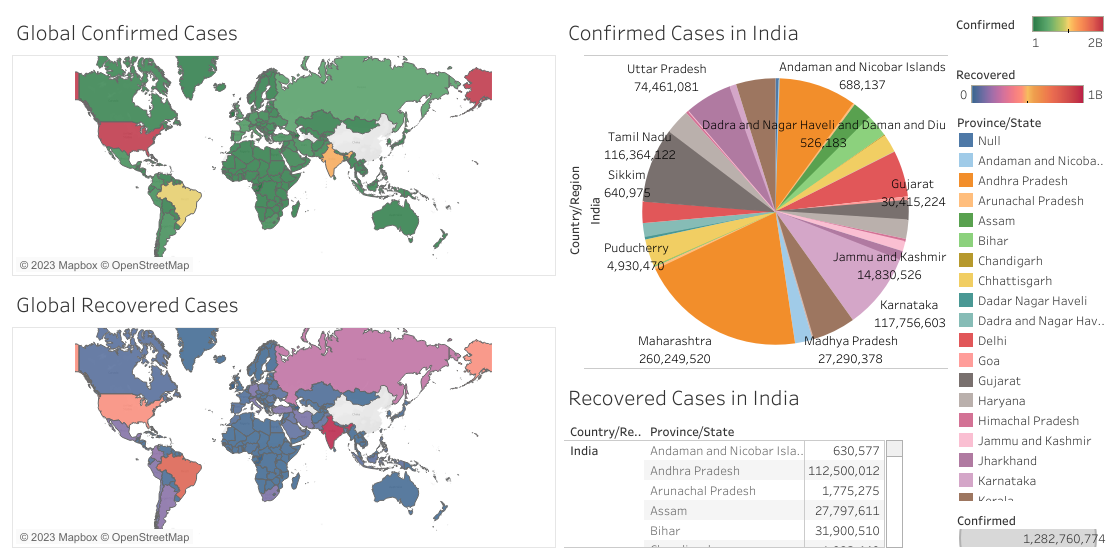

Layout of this report page (visuals, bound fields, positions):
{"tool":"tableau","page":{"name":"Dashboard 1","canvas":[1120,560],"ordinal":0},"visuals":[{"type":"worksheet","title":"Global Confirmed Cases","mark":"Automatic","box":[8,8,552,272]},{"type":"worksheet","title":"Confirmed Cases in India","mark":"Pie","rows":["Country/Region"],"box":[560,8,392,365]},{"type":"legend","title":"Global Confirmed Cases","param":"[federated.0nxp4u91qo4ubz1cox28z0iiks24].[sum:Confirmed:qk]","box":[952,8,160,49]},{"type":"legend","title":"Global Recovered Cases","param":"[federated.0nxp4u91qo4ubz1cox28z0iiks24].[sum:Recovered:qk]","box":[952,57,160,50]},{"type":"legend","title":"Confirmed Cases in India","param":"[federated.0nxp4u91qo4ubz1cox28z0iiks24].[none:Province/State:nk]","box":[952,107,160,399]},{"type":"worksheet","title":"Global Recovered Cases","mark":"Automatic","box":[8,280,552,272]},{"type":"worksheet","title":"Recovered Cases in India","mark":"Automatic","rows":["Country/Region","Province/State"],"box":[560,373,392,179]},{"type":"legend","title":"Confirmed Cases in India","param":"[federated.0nxp4u91qo4ubz1cox28z0iiks24].[sum:Confirmed:qk]","box":[952,506,160,46]}]}

Visuals, with their boxes in screenshot pixels (x1, y1, x2, y2), scaled from the page's 1120x560 canvas onto the 1119x559 screenshot:
"Global Confirmed Cases" worksheet: select_region(8, 8, 560, 280)
"Confirmed Cases in India" worksheet (Pie marks): select_region(560, 8, 951, 372)
"Global Confirmed Cases" legend: select_region(951, 8, 1111, 57)
"Global Recovered Cases" legend: select_region(951, 57, 1111, 107)
"Confirmed Cases in India" legend: select_region(951, 107, 1111, 505)
"Global Recovered Cases" worksheet: select_region(8, 280, 560, 551)
"Recovered Cases in India" worksheet: select_region(560, 372, 951, 551)
"Confirmed Cases in India" legend: select_region(951, 505, 1111, 551)
